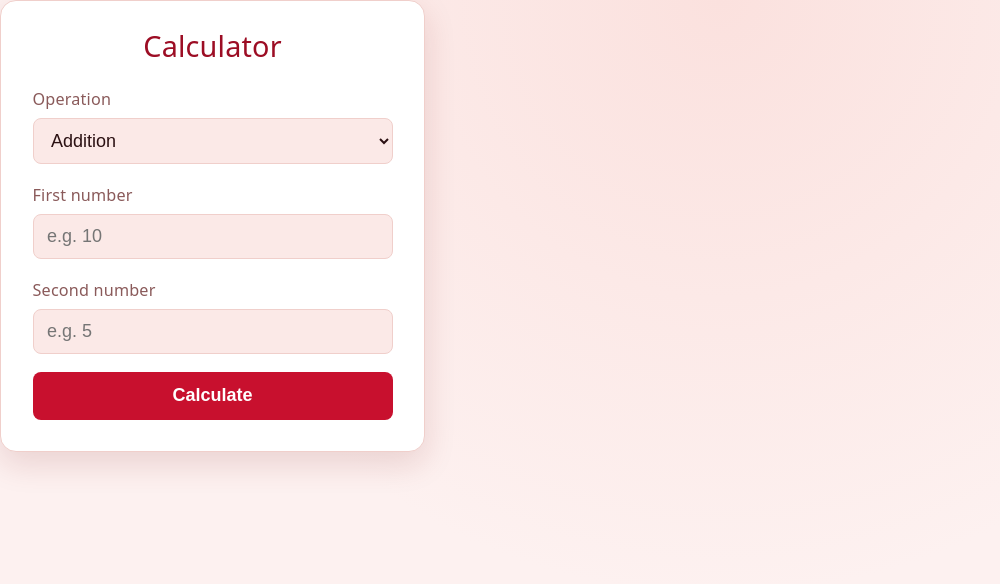
Test: Calculator › shows a validation error for non-numeric input
This screenshot has width=1000, height=584.
Type "abc" into the field labelled "First number". click: (212, 236)
box: [32, 214, 392, 259]
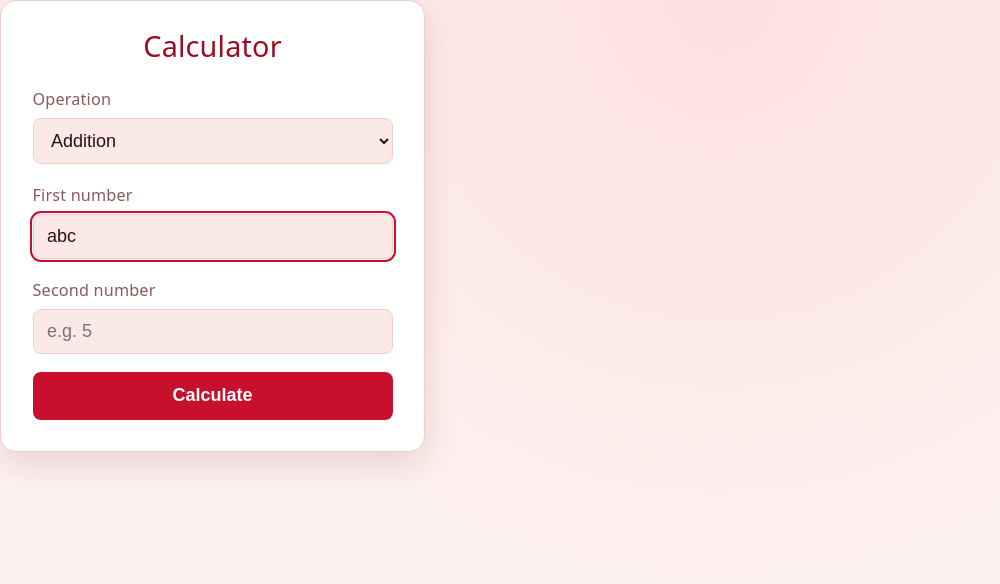
Type "2" into the field labelled "Second number". click: (212, 331)
box: [32, 309, 392, 354]
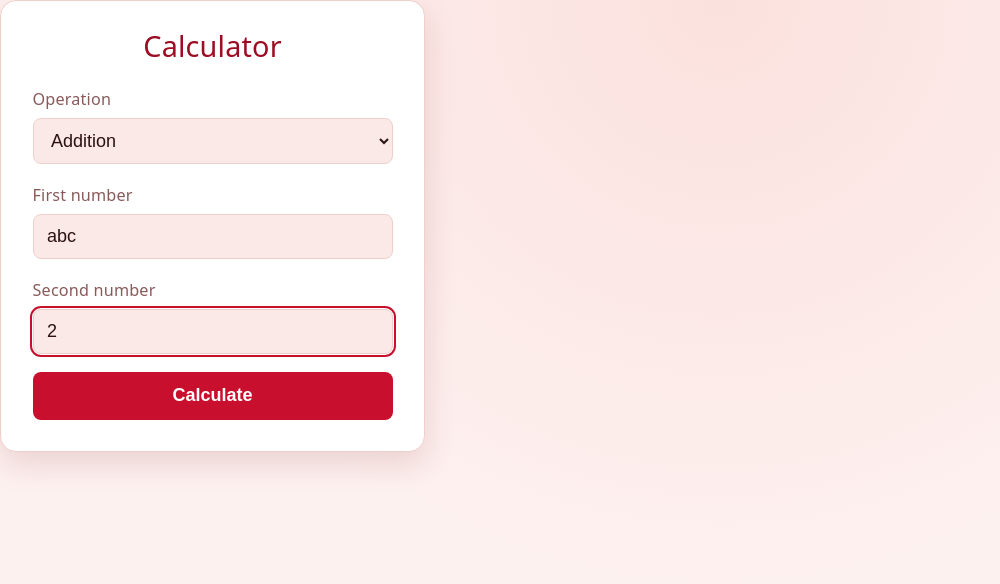
Click the button "Calculate". click: (212, 396)
box: [32, 372, 392, 420]
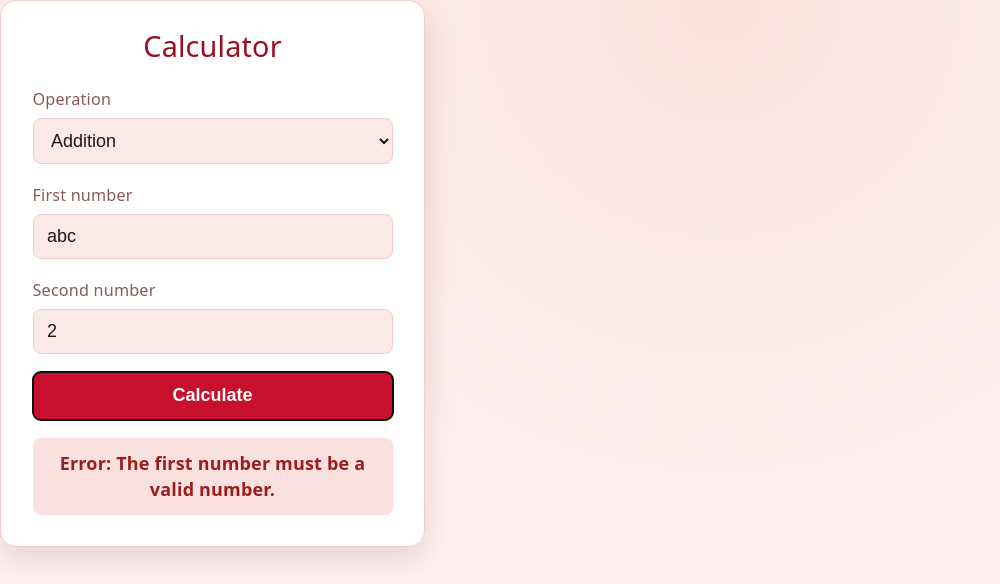
Check: the message shows "The first number must be a valid number.", box [116, 451, 365, 501]
